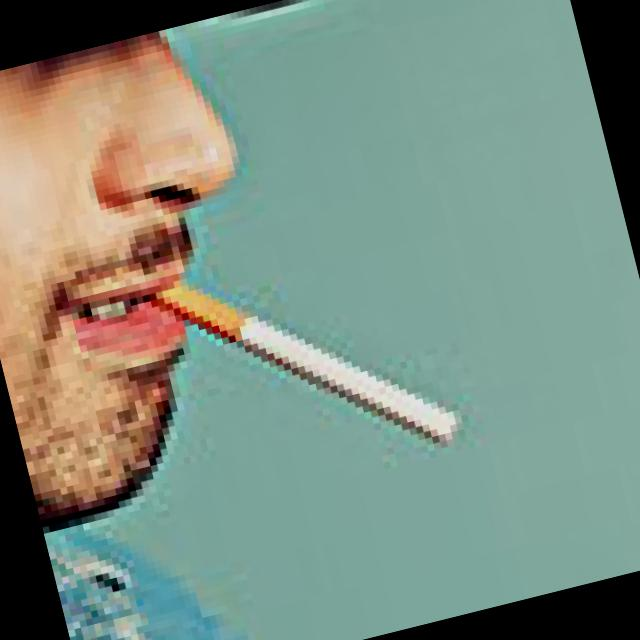smoke: (123, 187, 487, 522)
